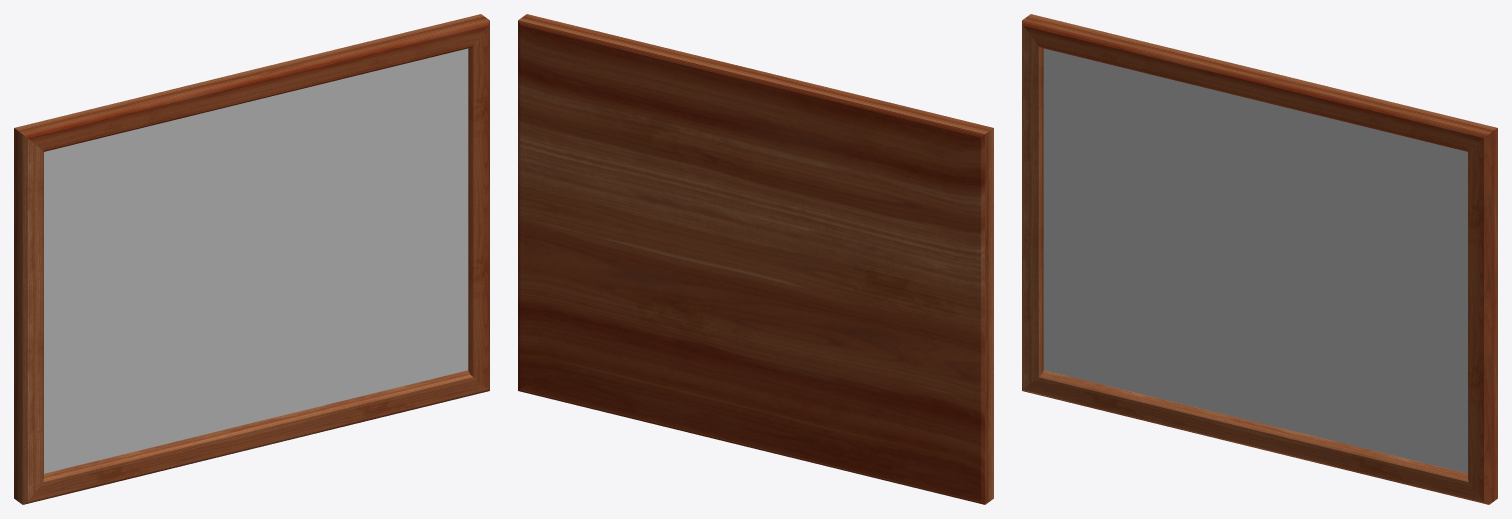
File: Chalkboard2.fbx
The picture shows the model from 3 angles, left to right: view 1: azimuth 30°, elevation 25°; view 2: azimuth 150°, elevation 25°; view 3: azimuth 330°, elevation 25°; orthographic projection.
Parts seen in each view (by area): view 1: Star_board:Star_board; view 2: Star_board:Star_board; view 3: Star_board:Star_board.
Boxes of the visible parts, x1=… form: Star_board:Star_board: x1=14, y1=14, x2=489, y2=504; Star_board:Star_board: x1=518, y1=14, x2=993, y2=504; Star_board:Star_board: x1=1022, y1=14, x2=1497, y2=504.
Bounding box in the file's own units: 50.11 × 38 × 2.19.
